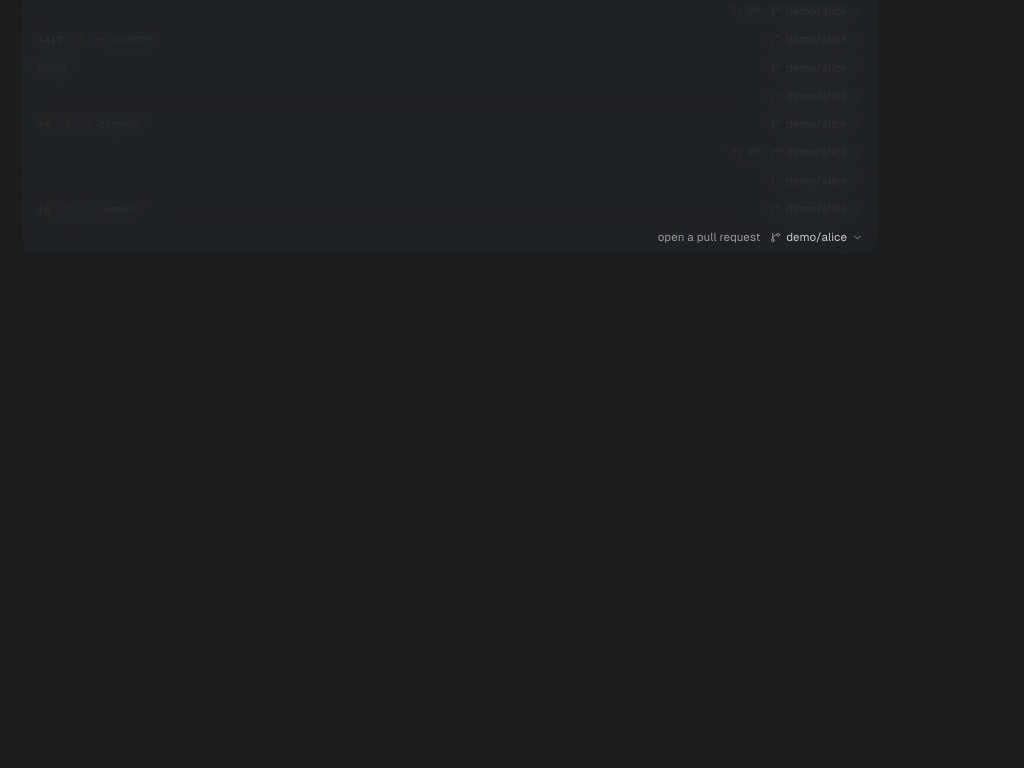
Test: the branch menu › says why there is nothing to choose rather than drawing an empty menu
Click the button with class "wsbranchpick" showing "demo/alice" at point(817, 238), box [761,226,872,249]
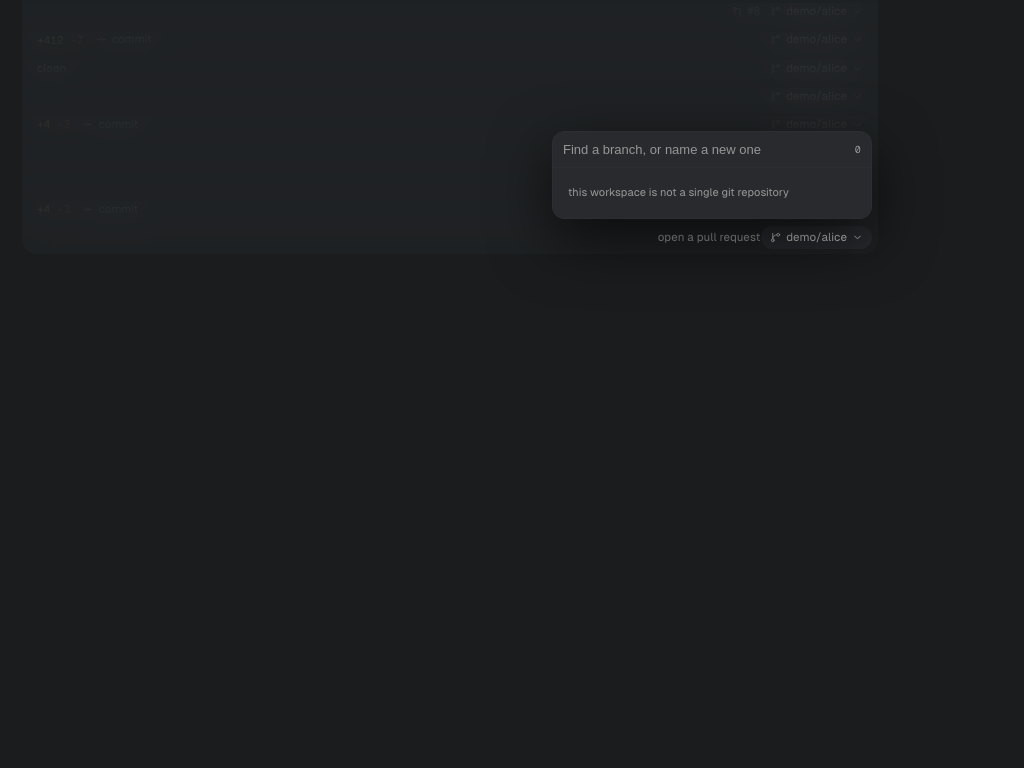
Expected: the text with class "branchnote" shows "not a single git repository", [568,186,789,198]
